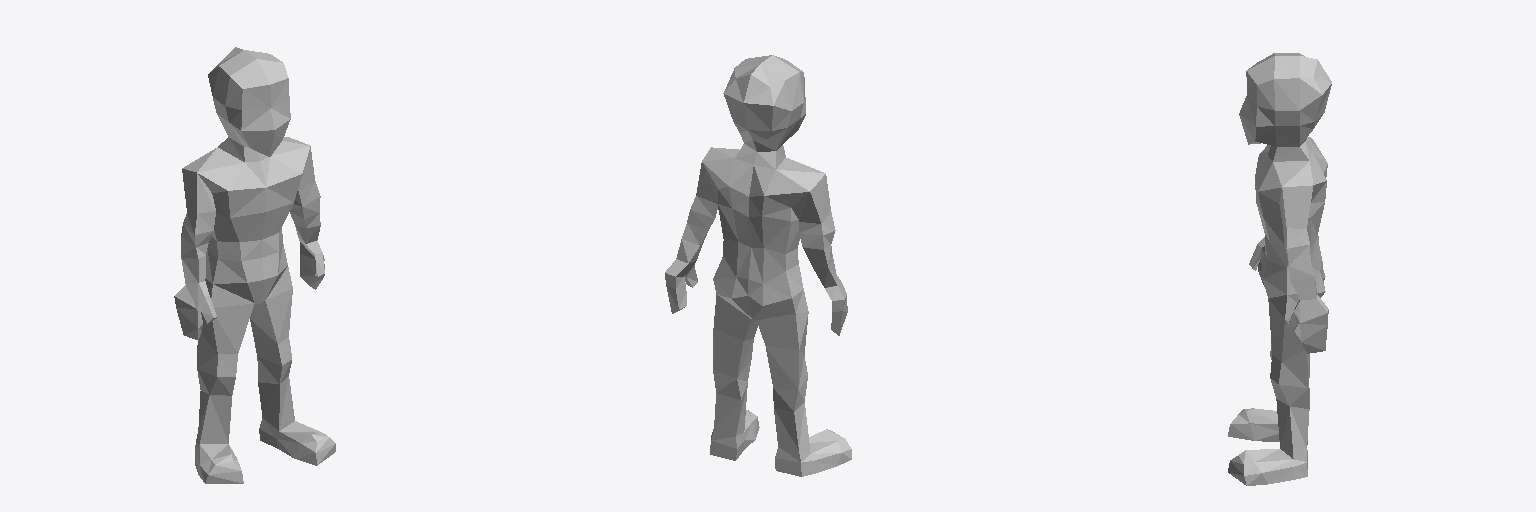
The model's file is Choose This.obj.
3 renders of one model, left to right at view 1: azimuth 30°, elevation 25°; view 2: azimuth 150°, elevation 25°; view 3: azimuth 270°, elevation 25°, orthographic.
Parts seen in each view (by area): view 1: Player_Cube.003; view 2: Player_Cube.003; view 3: Player_Cube.003.
Boxes of the visible parts, x1=… form: Player_Cube.003: x1=174, y1=47, x2=335, y2=483; Player_Cube.003: x1=665, y1=55, x2=851, y2=476; Player_Cube.003: x1=1228, y1=53, x2=1331, y2=485.
Size of the model in its own units: 4.9 by 11.77 by 2.8.